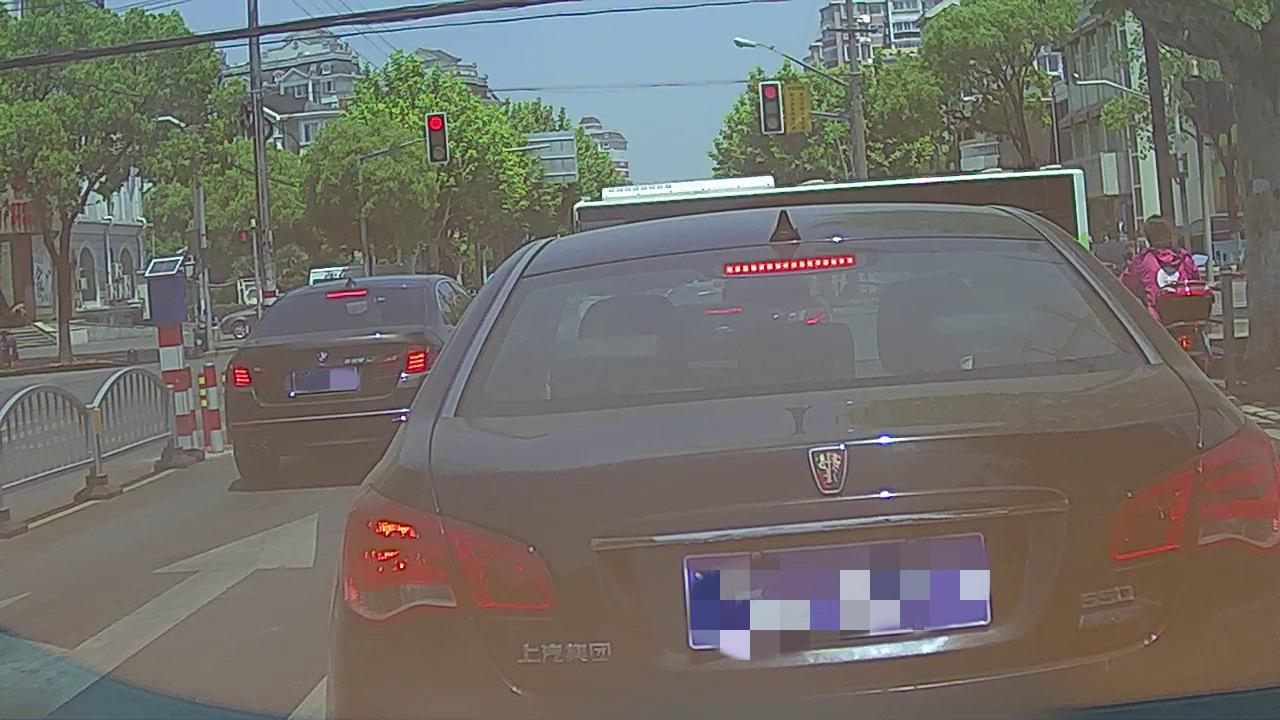traffic_light: (761, 83, 782, 133), (426, 115, 448, 161)
